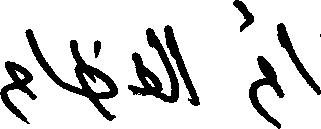ا: (281, 20, 319, 97), (30, 27, 57, 100), (175, 38, 197, 107)
ظ: (72, 37, 117, 121)
ف: (133, 26, 162, 100)
ل: (159, 22, 176, 103)
م: (248, 10, 281, 128), (0, 26, 31, 124)
